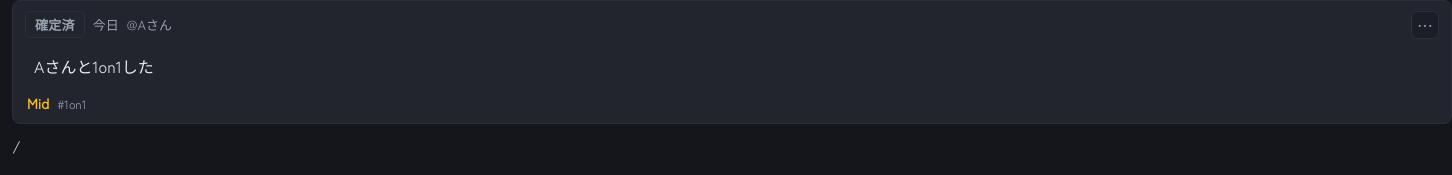
Test case: JournalEntryCard（表示モード） › sourceConsultRunIdがあれば⋯メニューから「相談を開く」で相談へ遷移する
Step 1. Click the button named "その他の操作" → (1425, 25), box [1411,11,1439,39]
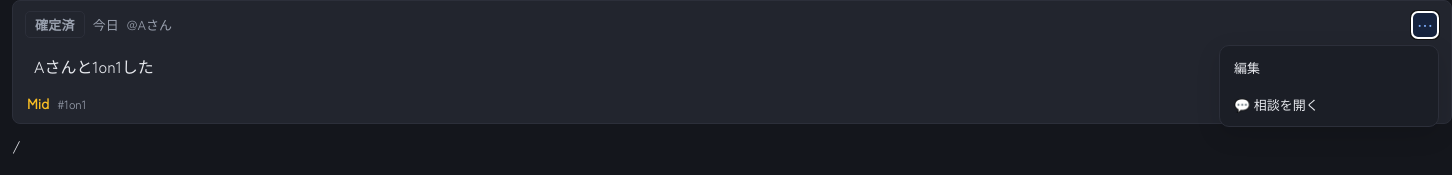
Step 2. Click the menu item "💬 相談を開く" → (1329, 104), box [1224,87,1434,122]
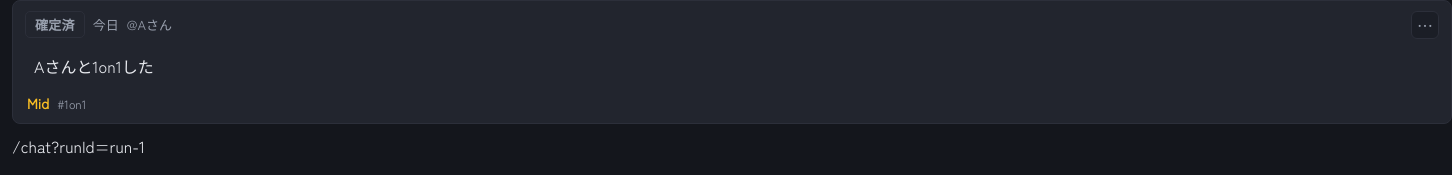
Expected: the text with test id "location" reads "/chat?runId=run-1", [12,134,145,158]
